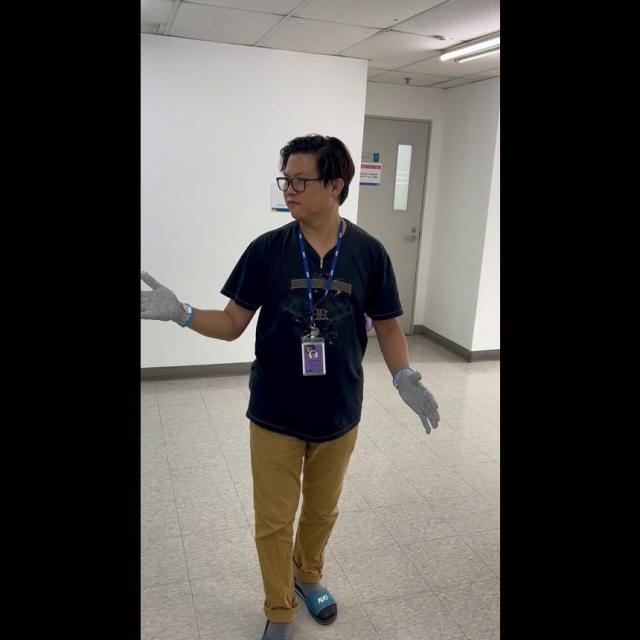gloved_hand: (389, 362, 439, 432), (142, 266, 193, 330)
